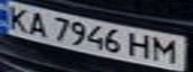4: (84, 22, 106, 52)
6: (103, 27, 127, 56)
7: (45, 14, 72, 43)
9: (66, 18, 90, 47)
A: (21, 9, 51, 38)
H: (127, 30, 154, 61)
K: (0, 2, 33, 33)
M: (148, 35, 184, 65)
